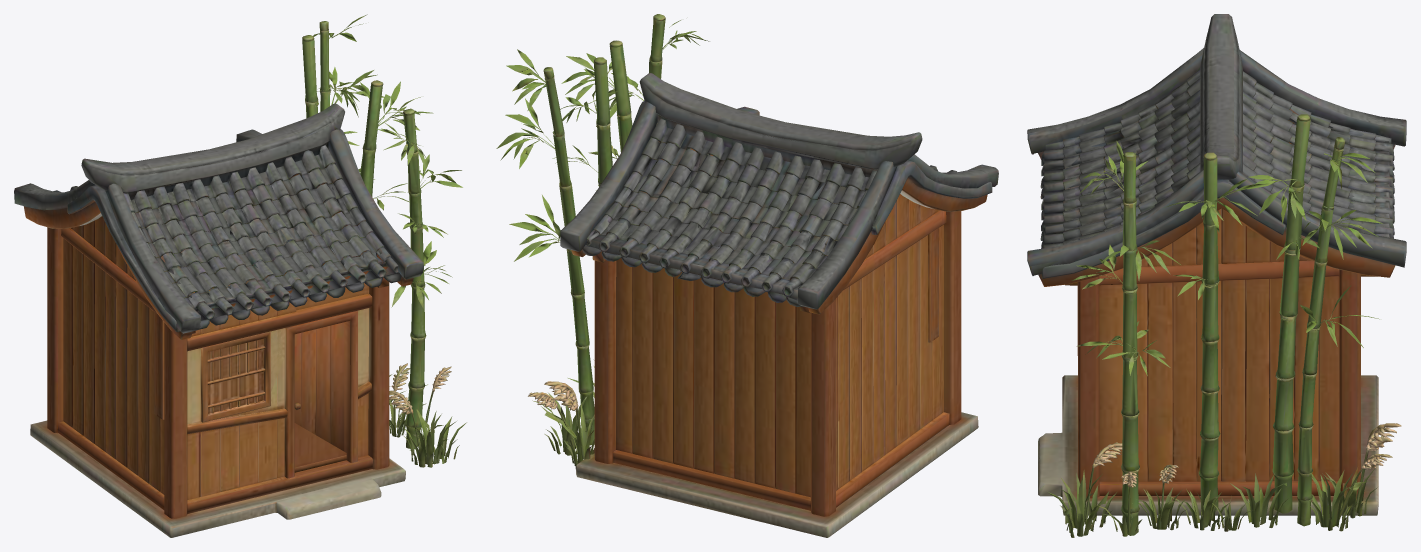
Rendered from station_3.glb.
3 renders of one model, left to right at view 1: azimuth 30°, elevation 25°; view 2: azimuth 150°, elevation 25°; view 3: azimuth 270°, elevation 25°, orthographic. The views are drawn at different scales.
Visible parts, largest first — view 1: tripo_node_43f8762a-8739-45e3-bafe-f4b3af26bcc0; view 2: tripo_node_43f8762a-8739-45e3-bafe-f4b3af26bcc0; view 3: tripo_node_43f8762a-8739-45e3-bafe-f4b3af26bcc0.
Boxes of the visible parts, x1,y1,x2,y2 form: tripo_node_43f8762a-8739-45e3-bafe-f4b3af26bcc0: [14, 14, 466, 537]; tripo_node_43f8762a-8739-45e3-bafe-f4b3af26bcc0: [496, 14, 998, 537]; tripo_node_43f8762a-8739-45e3-bafe-f4b3af26bcc0: [1027, 14, 1406, 537].
Bounding box in the file's own units: 0.9815 × 0.9995 × 0.8472.
1 material, 1 textured.
